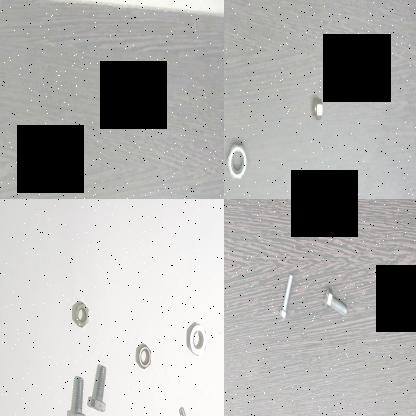Bolts: (87, 363, 111, 416), (320, 287, 348, 323), (66, 374, 87, 416), (278, 274, 296, 318), (175, 398, 206, 416)
NUTS: (224, 137, 249, 187), (184, 320, 210, 363), (70, 299, 94, 329), (135, 341, 154, 377), (136, 342, 154, 372), (312, 95, 324, 124)
